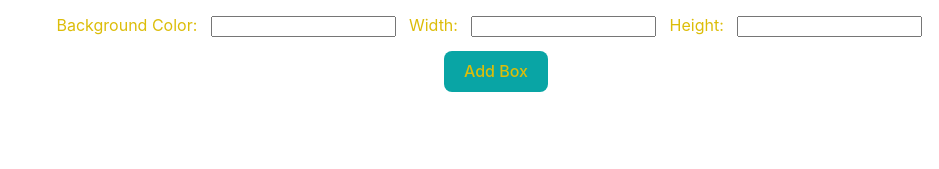
Test case: BoxList › can add a new box
Step 1. Type "teal" into the field labelled "Background Color:" → [303, 27], box top-left (211, 16), bottom-right (396, 37)
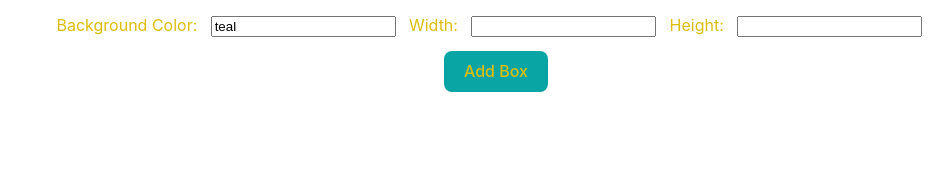
Step 2. Type "50px" into the field labelled "Width:" → [564, 27], box top-left (471, 16), bottom-right (656, 37)
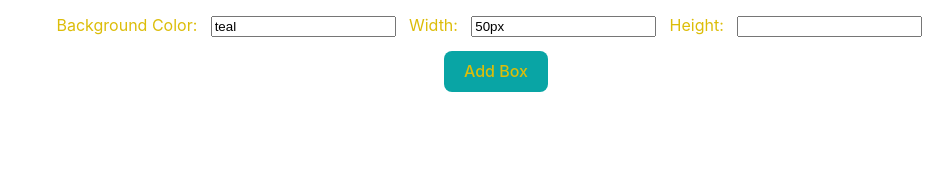
Step 3. Type "50px" into the field labelled "Height:" → [830, 27], box top-left (737, 16), bottom-right (922, 37)
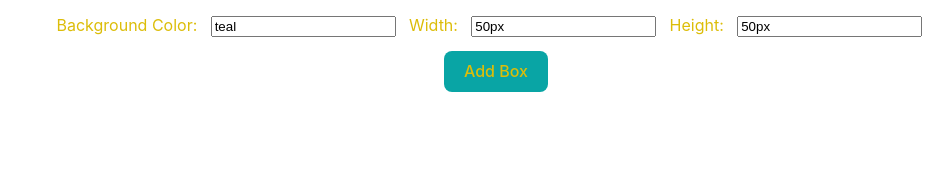
Step 4. Click the button "Add Box" → [496, 71], box top-left (444, 51), bottom-right (548, 92)
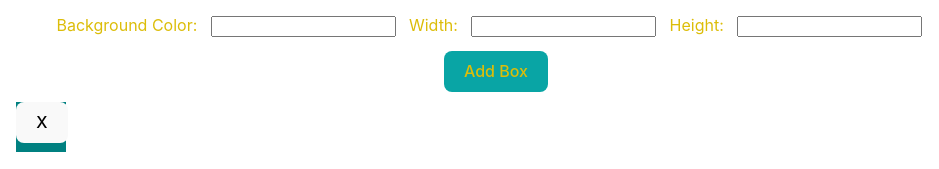
Expected: the button "X" is shown, top-left (16, 102), bottom-right (68, 143)
